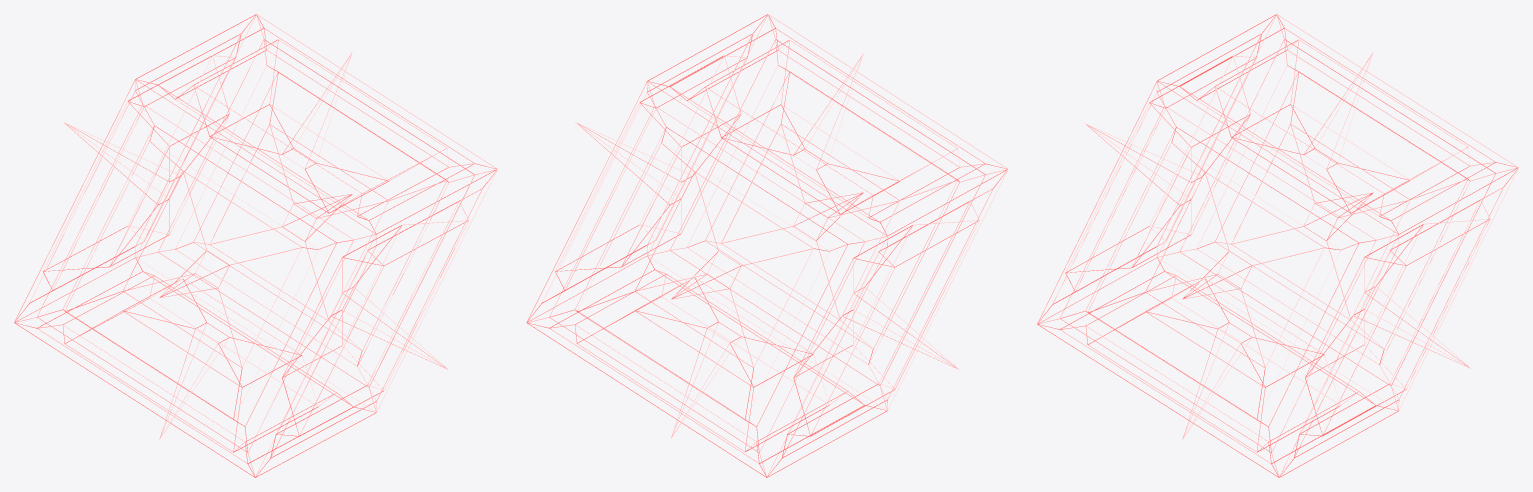
Rendered from something_artistic.glb.
3 views of the same model, side by side, from view 1: azimuth 30°, elevation 25°; view 2: azimuth 150°, elevation 25°; view 3: azimuth 270°, elevation 25° (orthographic).
Visible parts, largest first — view 1: Cube; view 2: Cube; view 3: Cube.
Part boxes in pixels (x1,y1,x2,y2): Cube: (14,14,497,477); Cube: (526,14,1008,477); Cube: (1037,14,1518,477).
Bounding box in the file's own units: 2.83 × 3.47 × 3.26.
